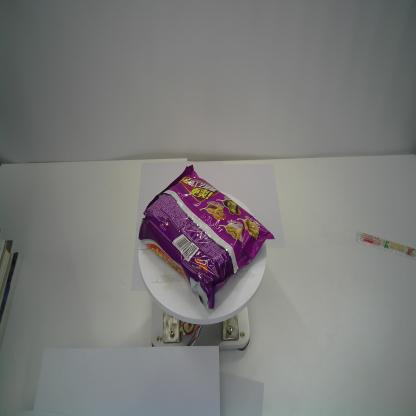Instant Noodles: (138, 164, 276, 310)
